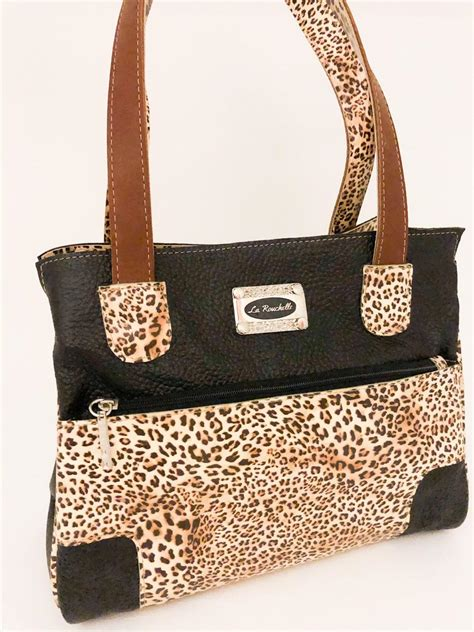cuero: (34, 1, 469, 625)
